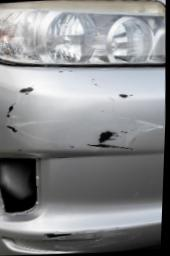Bumper: (0, 63, 165, 157)
